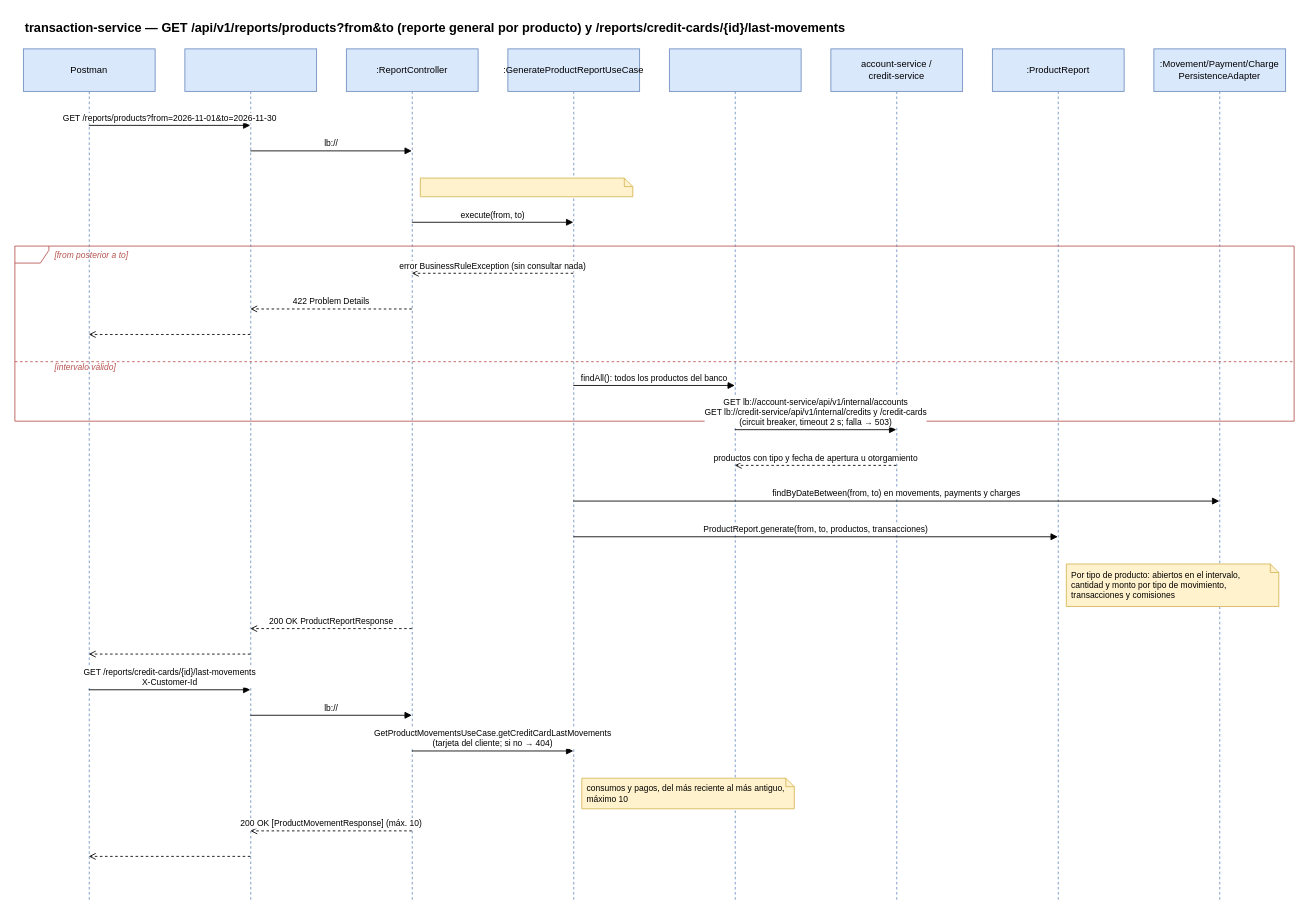
Image size: 1310x915. Some labels were removed from this diagram. Each missing label, with the box of its shape:
:api-gateway (circuit breaker 2 s): (184, 48, 317, 901)
:BankProductWebClientAdapter «BankProductClient»: (669, 48, 801, 901)
alt: (14, 245, 1294, 421)
from y to obligatorios, YYYY-MM-DD (400 si no): (419, 177, 633, 197)
